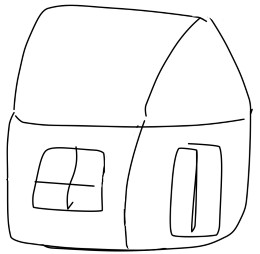big_house: (0, 0, 259, 254)
closed_window: (24, 139, 113, 223)
door: (164, 137, 234, 252)
roof: (5, 3, 255, 134)
wall: (121, 111, 254, 254)
